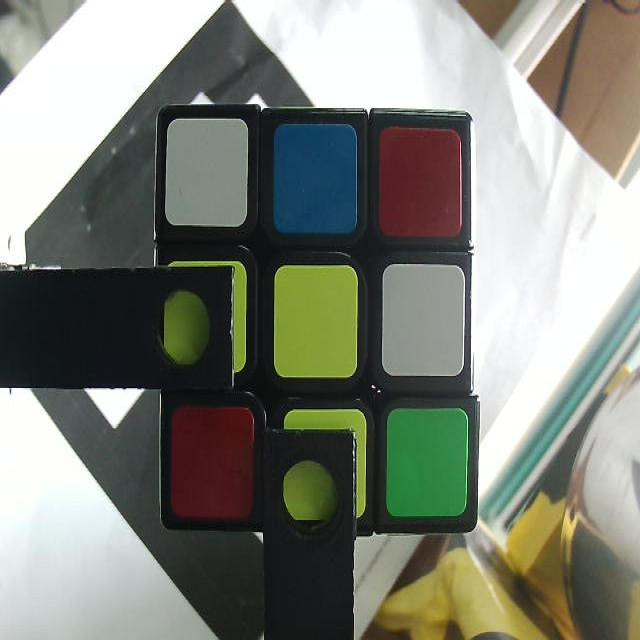b: (277, 128, 354, 232)
g: (387, 412, 468, 517)
r: (171, 408, 253, 522), (383, 127, 463, 240)
w: (165, 120, 248, 226), (383, 268, 463, 372)
y: (285, 411, 366, 524), (275, 267, 357, 378), (165, 266, 247, 376)
